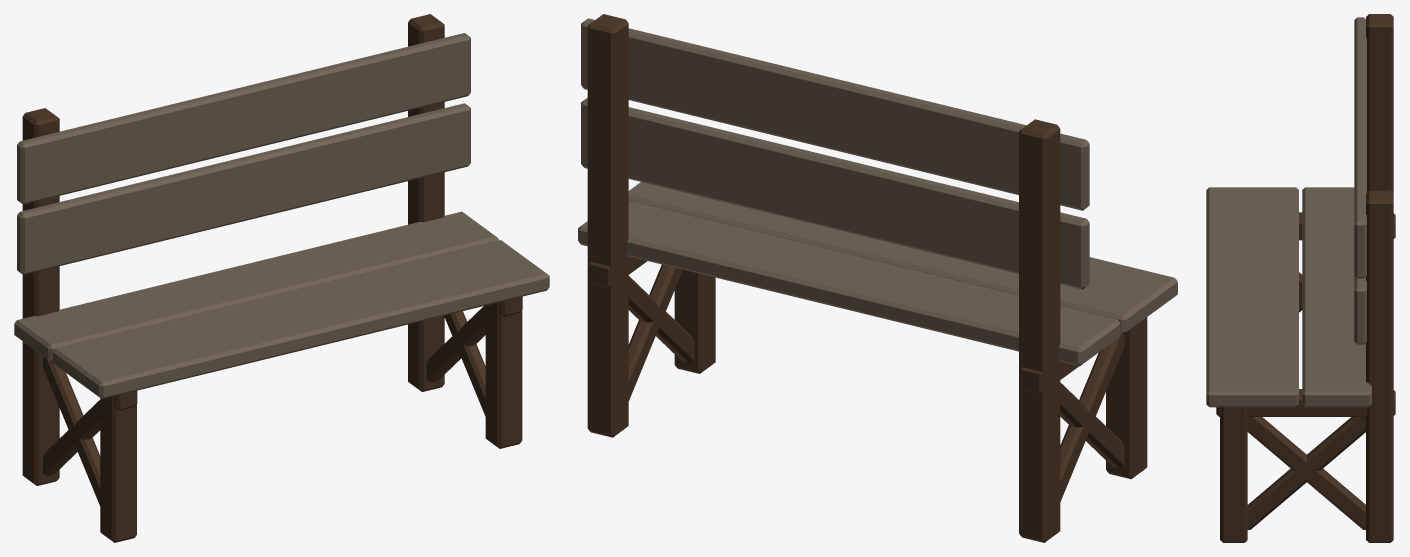
Rendered from mdvl_interiors_bench_01.glb.
The picture shows the model from 3 angles, left to right: view 1: azimuth 30°, elevation 25°; view 2: azimuth 150°, elevation 25°; view 3: azimuth 270°, elevation 25°; orthographic projection. The views are drawn at different scales.
Parts seen in each view (by area): view 1: mdvl_interiors_bench_01; view 2: mdvl_interiors_bench_01; view 3: mdvl_interiors_bench_01.
Boxes of the visible parts, x1,y1,x2,y2 form: mdvl_interiors_bench_01: (14, 14, 549, 542); mdvl_interiors_bench_01: (578, 14, 1177, 542); mdvl_interiors_bench_01: (1206, 14, 1395, 542).
Size of the model in its own units: 1.24 by 0.96 by 0.48.
Materials: 1 (1 with a texture image).
